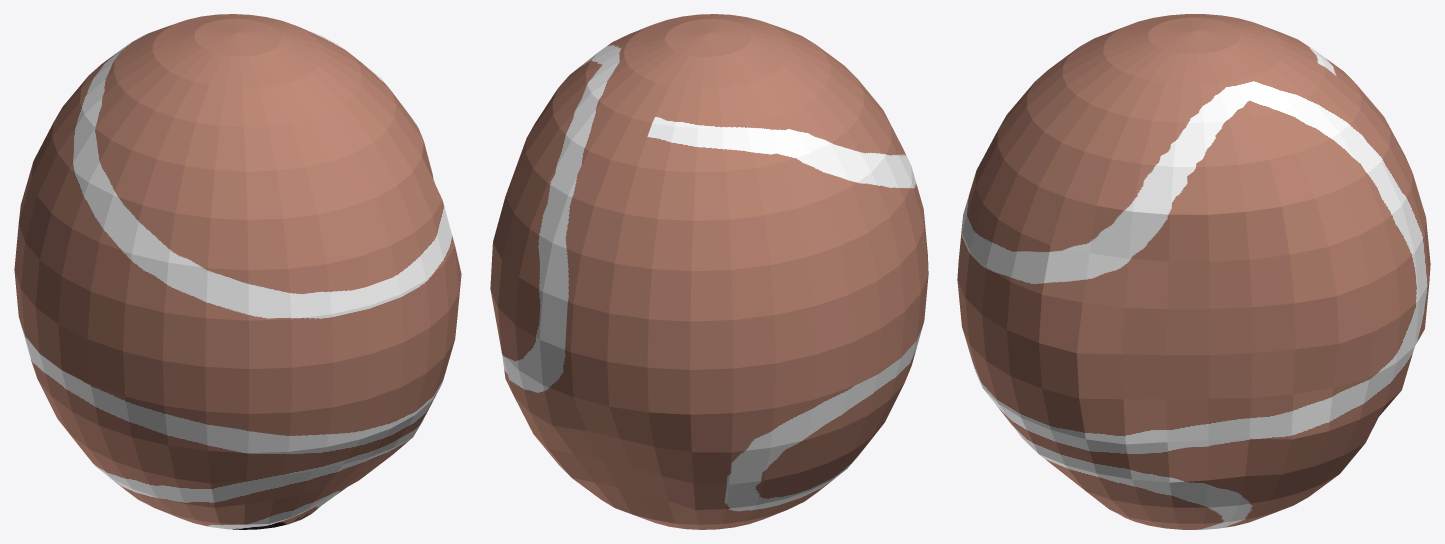
The model's file is player2.obj.
The picture shows the model from 3 angles, left to right: view 1: azimuth 30°, elevation 25°; view 2: azimuth 150°, elevation 25°; view 3: azimuth 270°, elevation 25°; orthographic projection.
Visible parts, largest first — view 1: 球; view 2: 球; view 3: 球.
Part boxes in pixels (<box>): 球: <box>14,14,461,529</box>; 球: <box>490,14,928,529</box>; 球: <box>957,14,1430,529</box>.
Bounding box in the file's own units: 0.7484 × 0.9601 × 0.8546.
